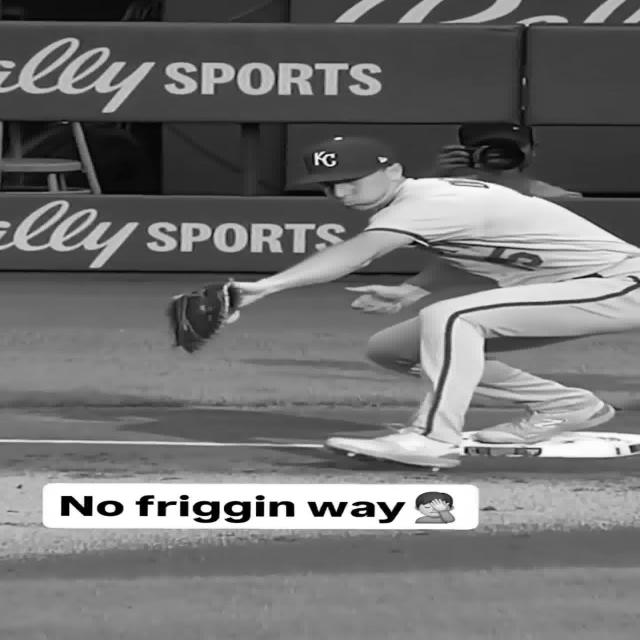base: (462, 431, 640, 458)
baseball_glove: (167, 281, 240, 352)
shoe: (476, 401, 616, 444), (327, 428, 462, 469)
